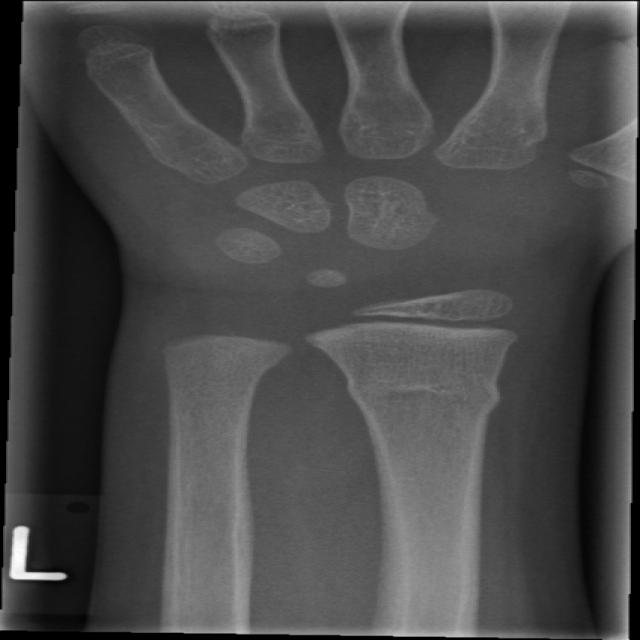radius fracture: (318, 356, 542, 459)
